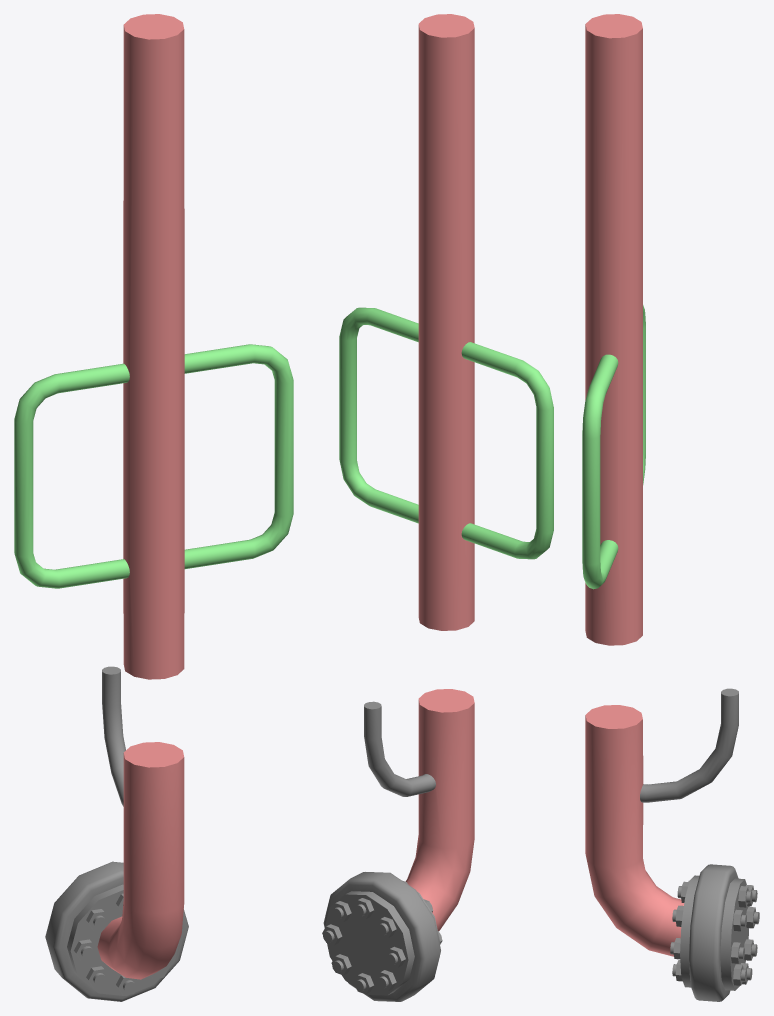
The model's file is SM_SUG_All_Right_04_1.gltf.
3 views of the same model, side by side, from view 1: azimuth 30°, elevation 25°; view 2: azimuth 150°, elevation 25°; view 3: azimuth 270°, elevation 25° (orthographic). The views are drawn at different scales.
Visible parts, largest first — view 1: SM_SUG_All_Right_04_1; view 2: SM_SUG_All_Right_04_1; view 3: SM_SUG_All_Right_04_1.
Boxes of the visible parts, x1,y1,x2,y2 form: SM_SUG_All_Right_04_1: (14,14,293,1001); SM_SUG_All_Right_04_1: (322,14,553,1001); SM_SUG_All_Right_04_1: (582,14,759,1001).
Size of the model in its own units: 0.2071 by 0.7931 by 0.1326.
